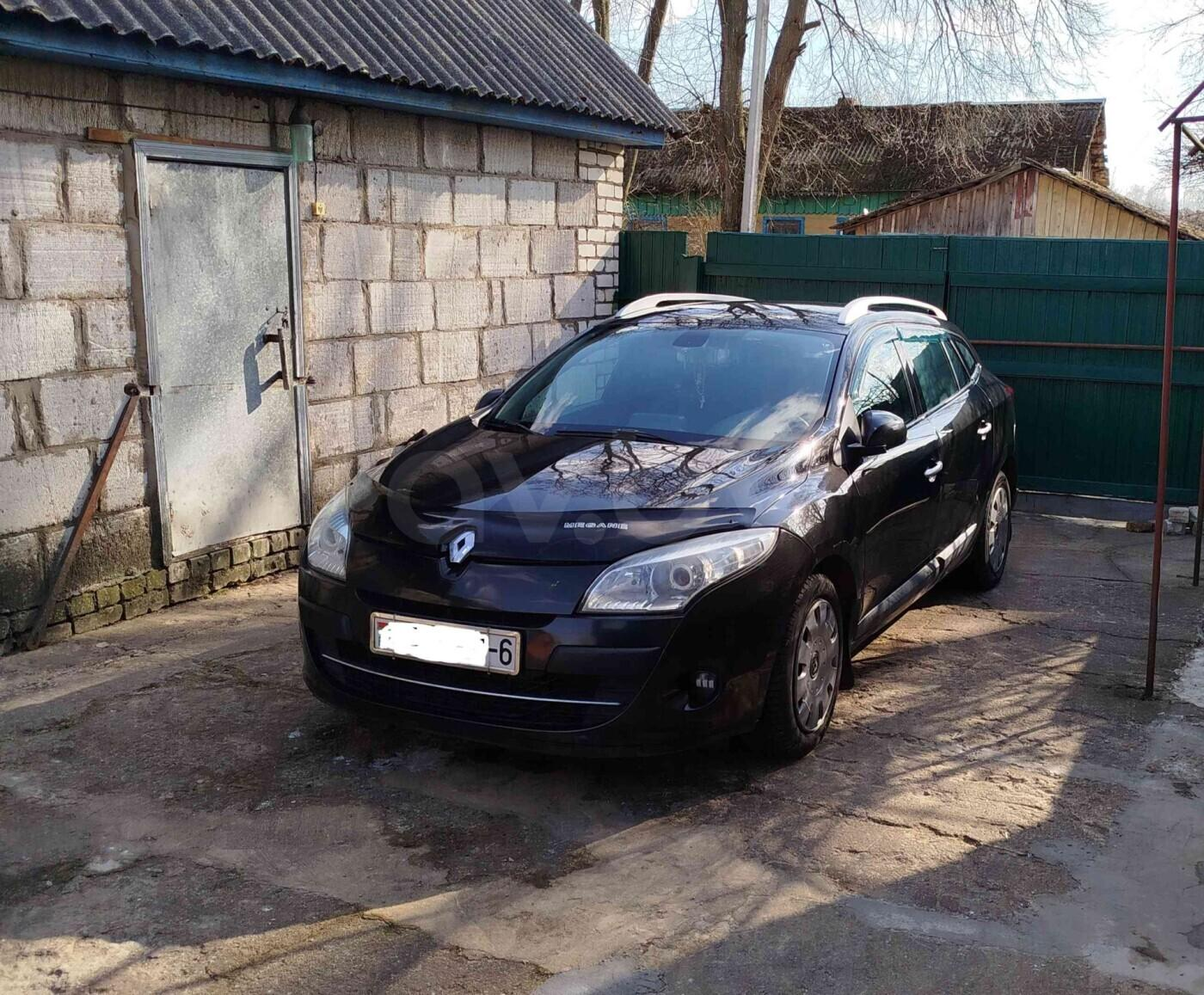Megane_2008-2014: (302, 287, 1026, 777)
